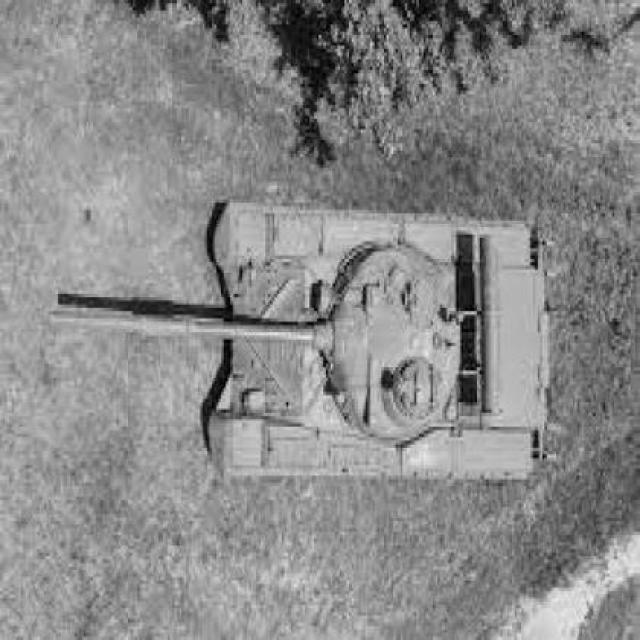tank: (50, 200, 552, 477)
